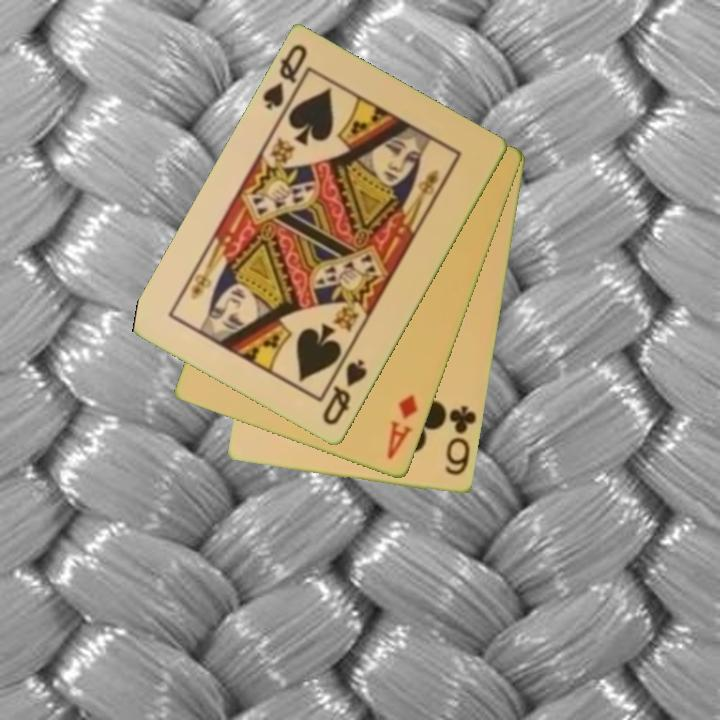6c: (442, 402, 480, 479)
Ad: (383, 391, 421, 463)
Qs: (319, 356, 371, 429), (259, 41, 311, 114)
